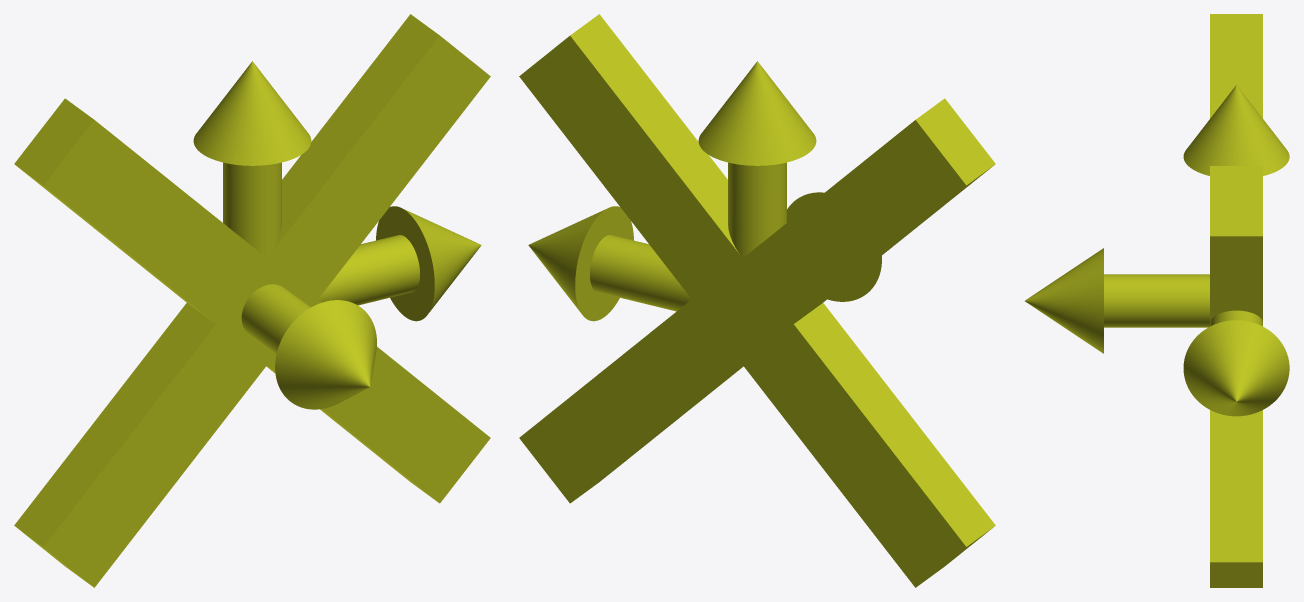
3 renders of one model, left to right at view 1: azimuth 30°, elevation 25°; view 2: azimuth 150°, elevation 25°; view 3: azimuth 270°, elevation 25°, orthographic. The views are drawn at different scales.
Visible parts, largest first — view 1: Body; view 2: Body; view 3: Body.
Part boxes in pixels (bbox=[...]): Body: bbox=[14, 14, 490, 587]; Body: bbox=[519, 14, 995, 587]; Body: bbox=[1025, 14, 1289, 587].
Bounding box in the file's own units: 1778 × 1778 × 1000.
